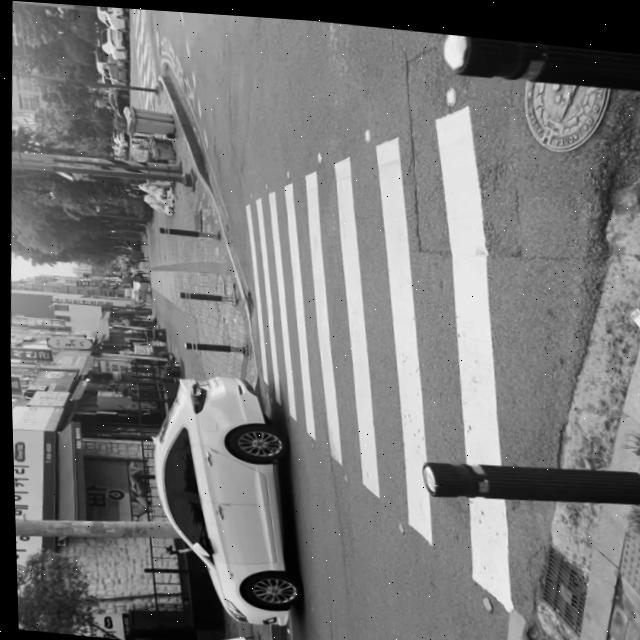crosswalk: (250, 156, 541, 413), (130, 9, 160, 93)
tactile_paving: (141, 248, 232, 277)
